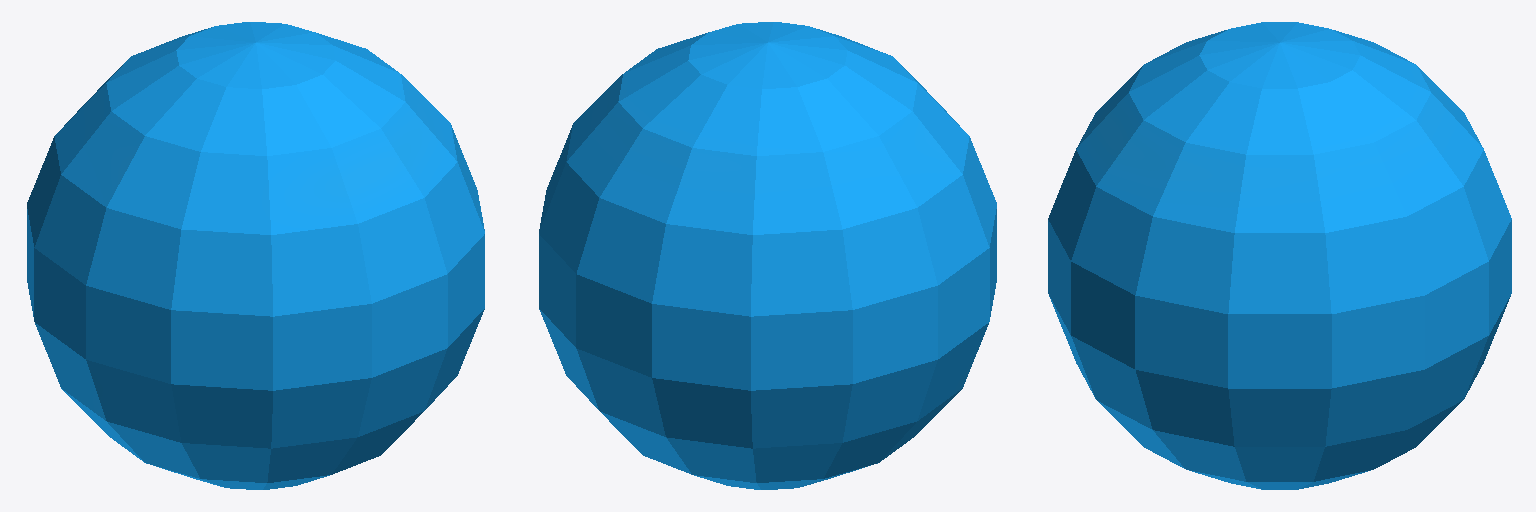
The picture shows the model from 3 angles: view 1: azimuth 30°, elevation 25°; view 2: azimuth 150°, elevation 25°; view 3: azimuth 270°, elevation 25°; orthographic projection.
Parts seen in each view (by area): view 1: Sphere_Sphere.001; view 2: Sphere_Sphere.001; view 3: Sphere_Sphere.001.
Part boxes in pixels (left/top/right/bottom): Sphere_Sphere.001: left=27, top=22, right=484, bottom=489; Sphere_Sphere.001: left=539, top=22, right=996, bottom=489; Sphere_Sphere.001: left=1048, top=22, right=1511, bottom=489.
Size of the model in its own units: 1.92 by 2 by 1.97.
Materials: 1 (1 with a texture image).